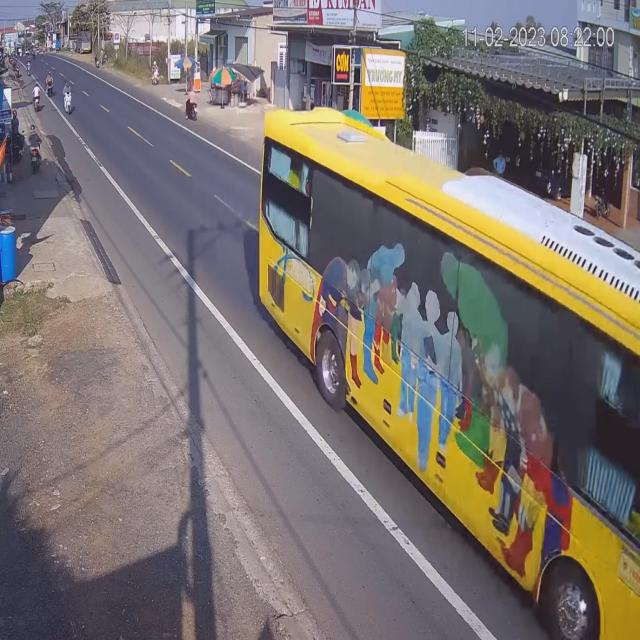bus: (256, 105, 640, 640)
motorbike: (62, 78, 72, 113), (45, 70, 54, 96)
